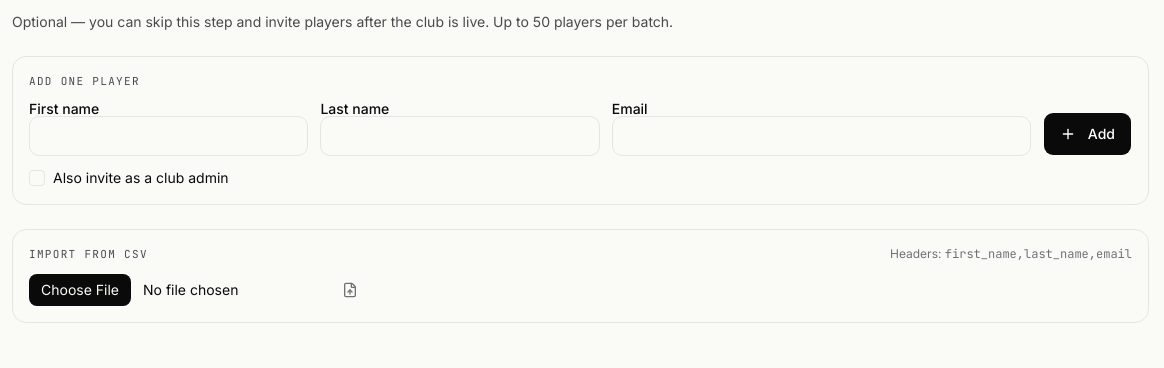
it: Step4Players › rejects an invalid email with a visible error
Type "Bad" into the field with test id "draft-first-name".
click(169, 136); type("Bad")  # box [29,116,308,156]
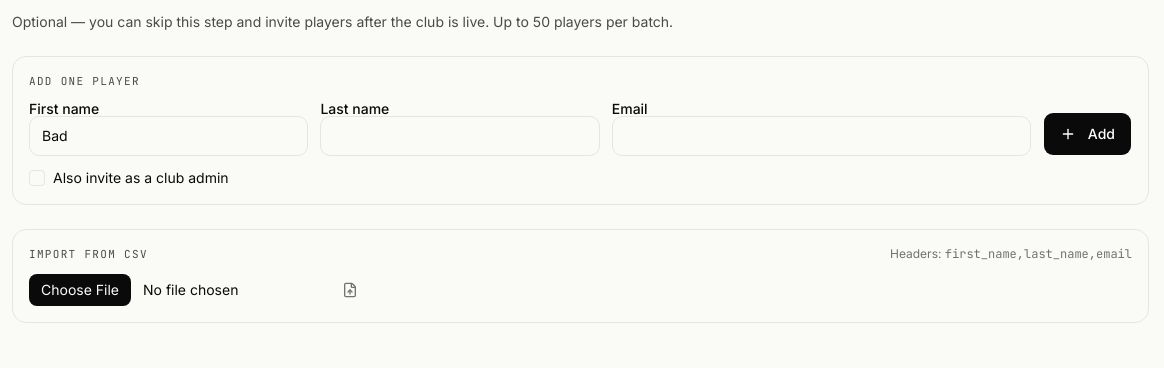
Type "Email" into the field with test id "draft-last-name".
click(460, 136); type("Email")  # box [320,116,600,156]
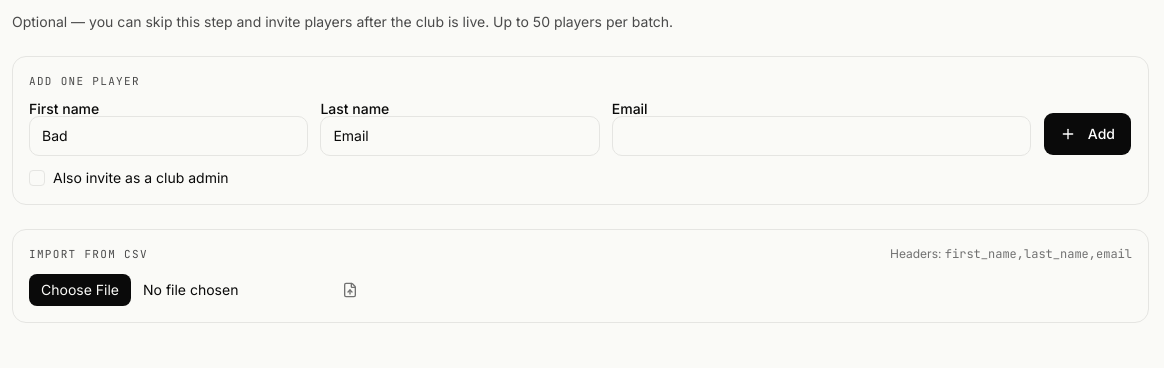
Type "not-an-email" into the field with test id "draft-email".
click(821, 136); type("not-an-email")  # box [612,116,1031,156]
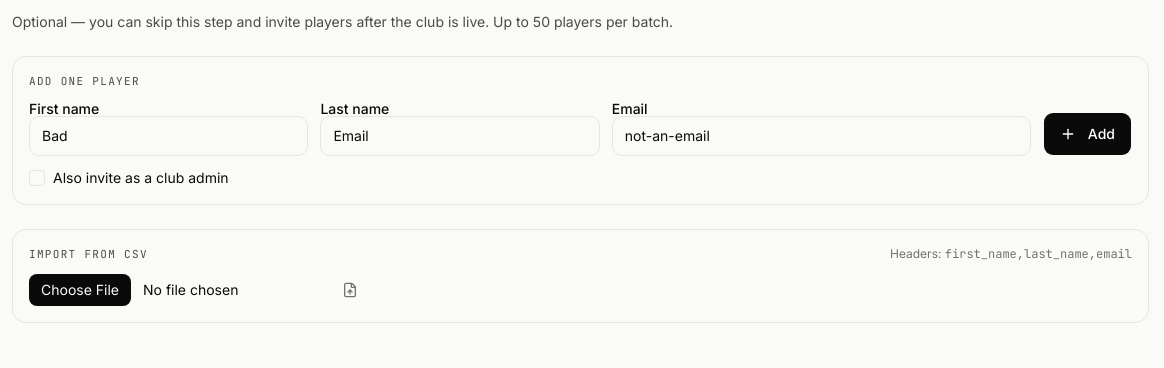
Click the button with test id "draft-add".
click(1087, 134)  # box [1043,112,1132,156]
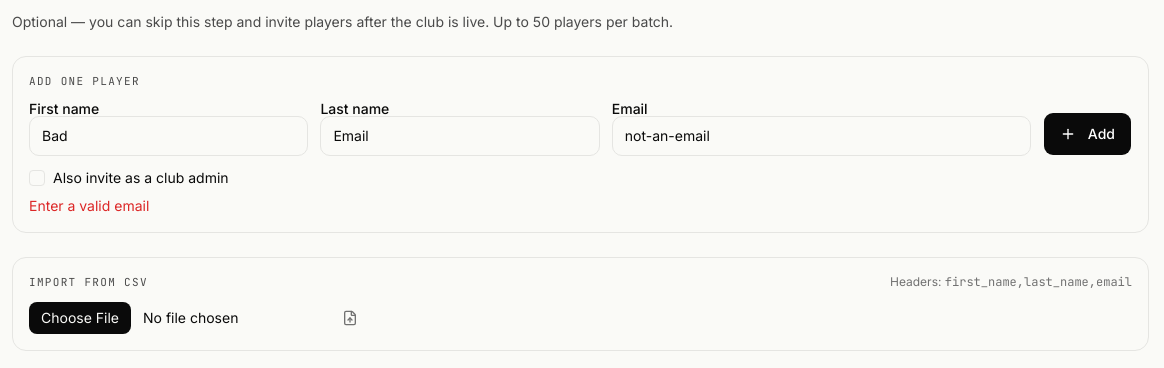
Expected: the text "Enter a valid email" is shown, [29,196,149,214]
